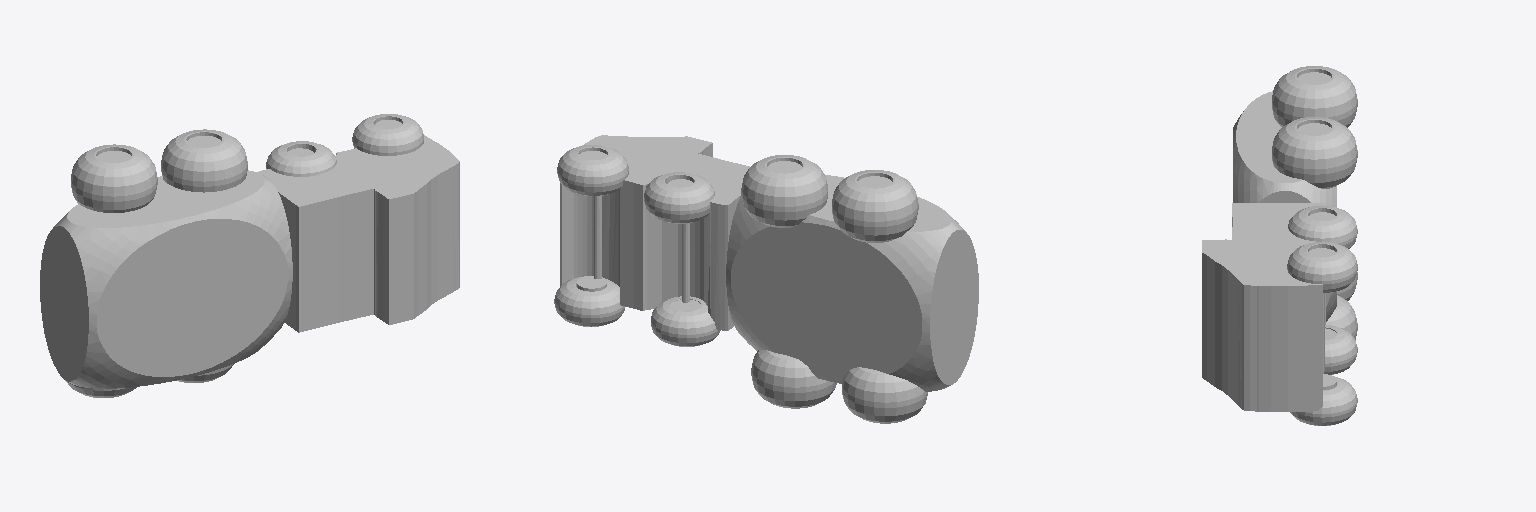
File: Car.obj
The picture shows the model from 3 angles: view 1: azimuth 30°, elevation 25°; view 2: azimuth 150°, elevation 25°; view 3: azimuth 270°, elevation 25°; orthographic projection.
Visible parts, largest first — view 1: obj_0; view 2: obj_0; view 3: obj_0.
Part boxes in pixels (x1,y1,x2,y2): obj_0: (40,114,459,397); obj_0: (554,135,978,423); obj_0: (1202,66,1357,425).
Size of the model in its own units: 113 by 68 by 40.37.